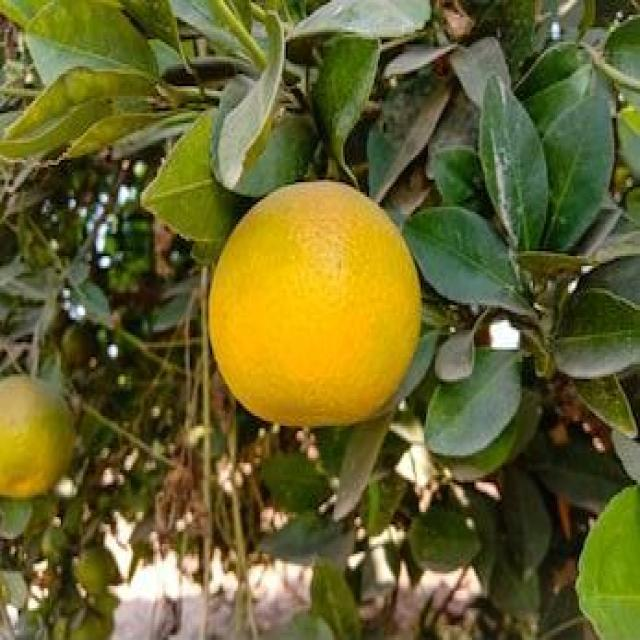orange: (209, 174, 424, 430)
